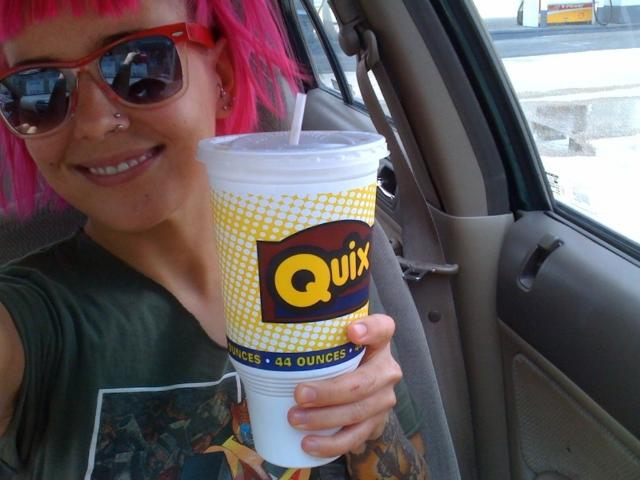Seatbelt: (356, 43, 474, 478)
